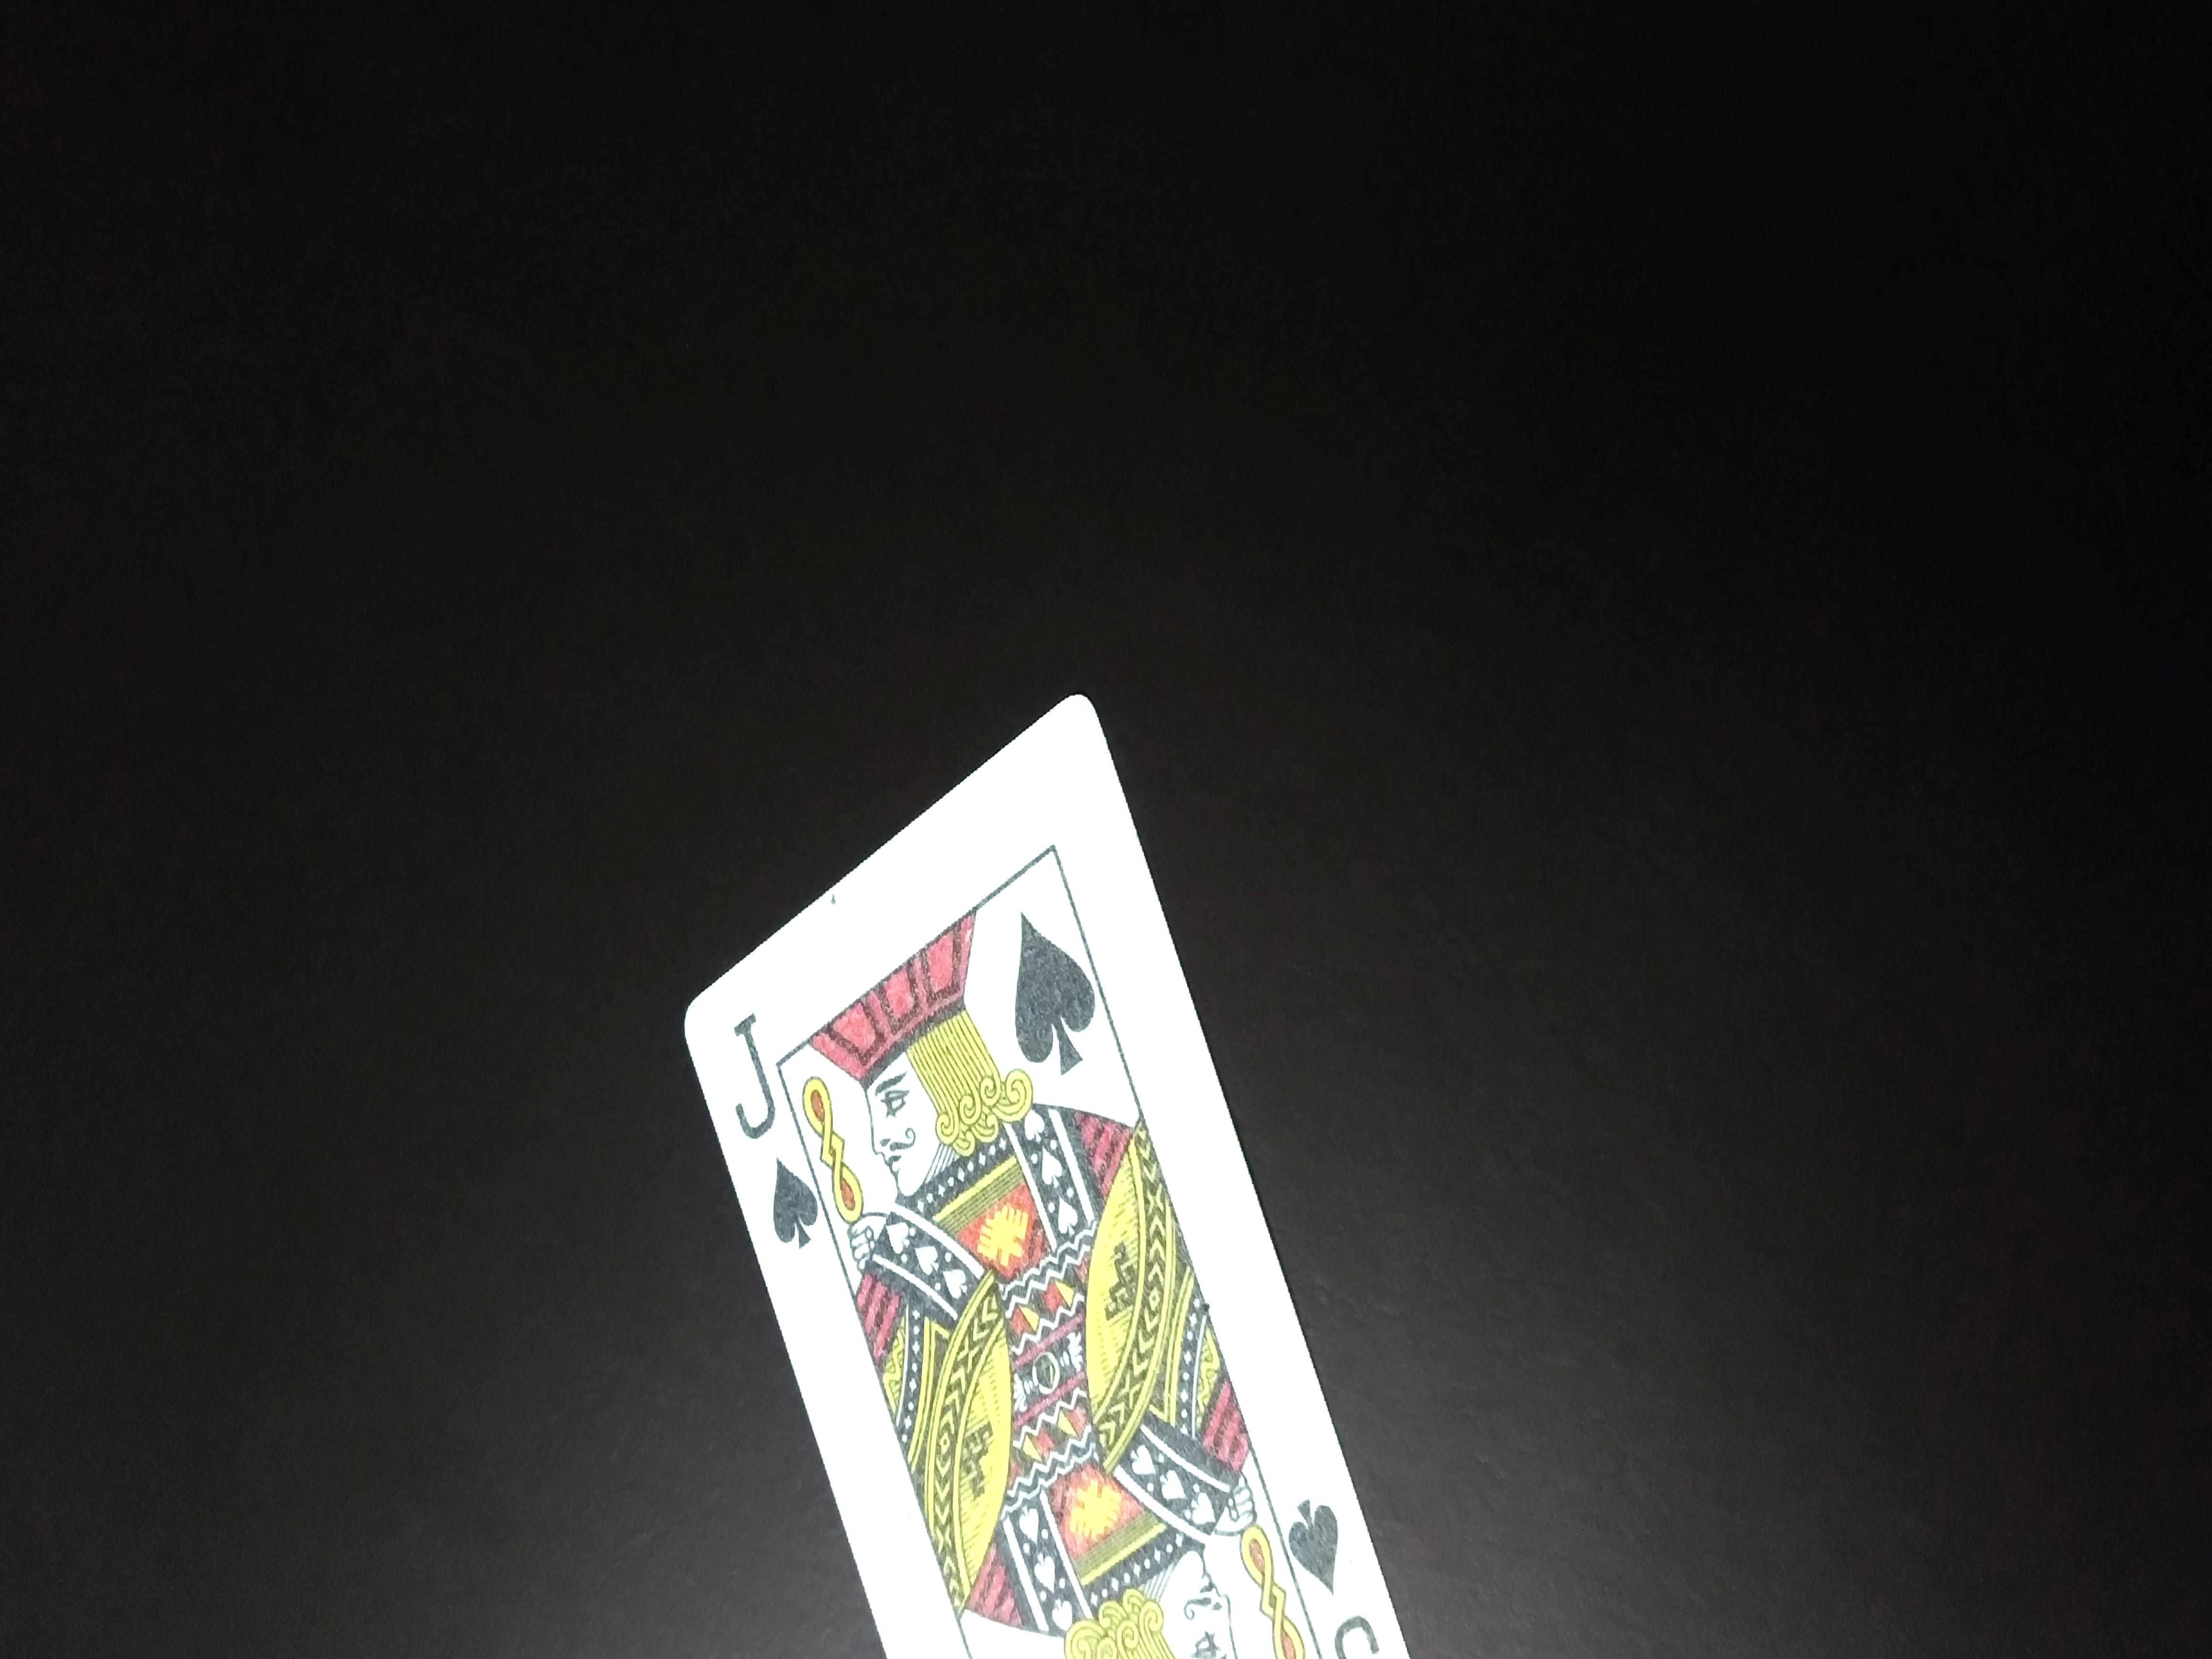JS: (681, 979, 824, 1267)
